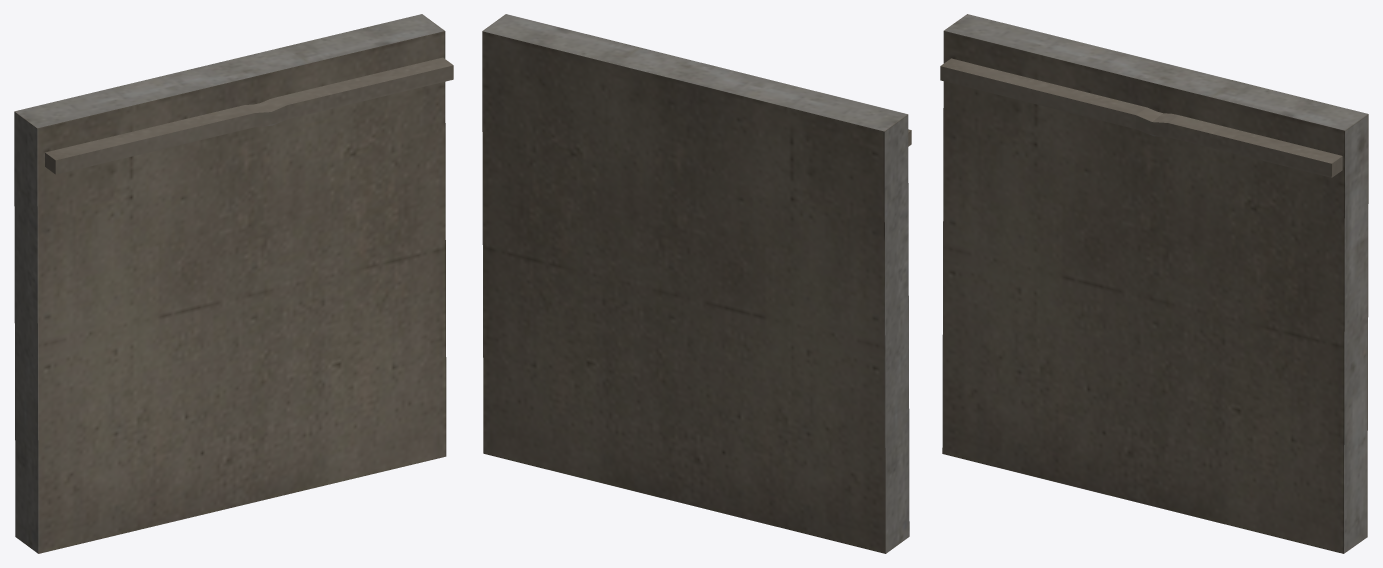
3 renders of one model, left to right at view 1: azimuth 30°, elevation 25°; view 2: azimuth 150°, elevation 25°; view 3: azimuth 330°, elevation 25°, orthographic.
Parts seen in each view (by area): view 1: E_W_3; view 2: E_W_3; view 3: E_W_3.
Boxes of the visible parts, x1=… form: E_W_3: x1=14, y1=14, x2=453, y2=553; E_W_3: x1=482, y1=14, x2=911, y2=553; E_W_3: x1=940, y1=14, x2=1368, y2=553.
Size of what is drawn, in the model's own units: 294 by 293 by 45.76.
Materials: 1 (1 with a texture image).
